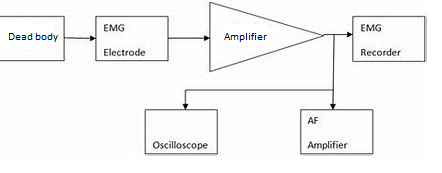arrow: (181, 88, 335, 111), (330, 35, 338, 111), (166, 34, 209, 41), (63, 34, 95, 42), (322, 31, 353, 37)
process: (207, 1, 325, 73), (351, 14, 429, 64), (93, 14, 170, 64), (299, 107, 376, 156), (142, 108, 220, 155), (1, 14, 66, 62)
text: (102, 22, 148, 57), (307, 114, 349, 151), (360, 23, 403, 57), (223, 30, 269, 44), (151, 140, 208, 151), (7, 31, 59, 43)
